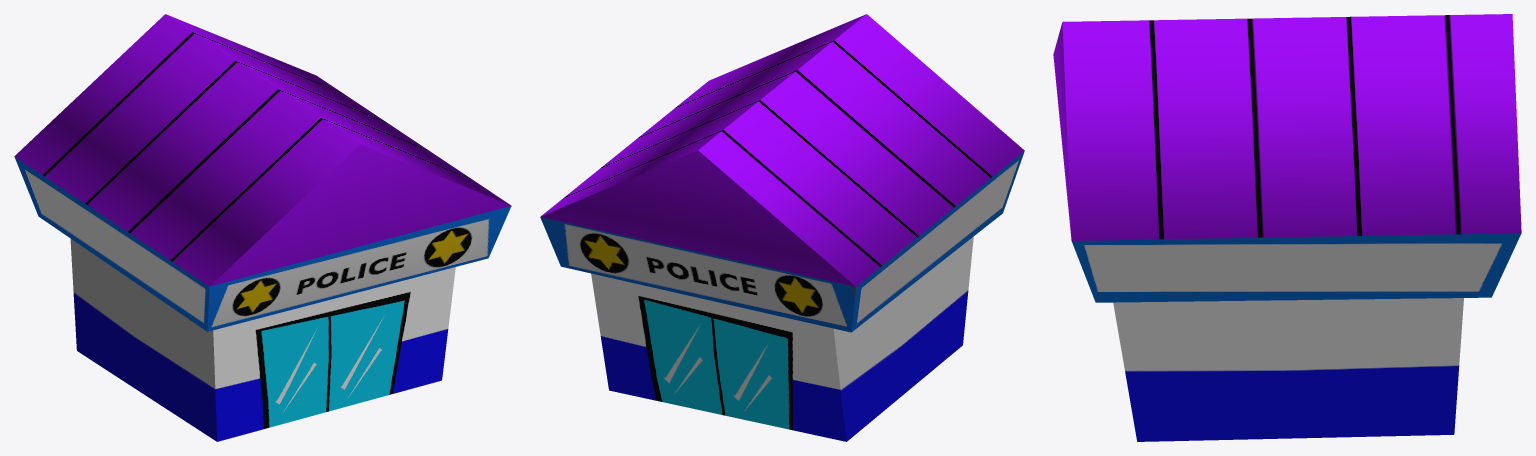
The model's file is PoliceStation.fbx.
3 renders of one model, left to right at view 1: azimuth 30°, elevation 25°; view 2: azimuth 150°, elevation 25°; view 3: azimuth 270°, elevation 25°, orthographic. The views are drawn at different scales.
Visible parts, largest first — view 1: HCC1:polySurface1; view 2: HCC1:polySurface1; view 3: HCC1:polySurface1.
Part boxes in pixels (x1,y1,x2,y2): HCC1:polySurface1: [14, 14, 511, 441]; HCC1:polySurface1: [540, 14, 1024, 441]; HCC1:polySurface1: [1053, 14, 1521, 441].
Bounding box in the file's own units: 23.33 × 19.75 × 23.76.
